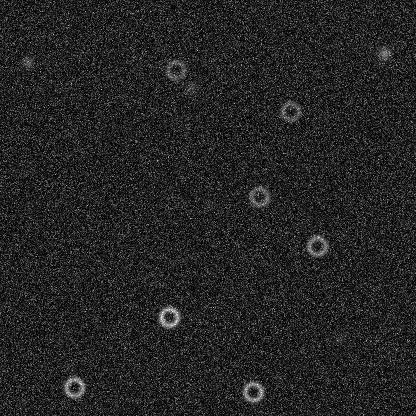Ring: (305, 233, 329, 257), (62, 375, 86, 399), (157, 304, 181, 328), (247, 184, 271, 208), (163, 57, 187, 81), (278, 99, 302, 123), (241, 379, 265, 403)
Spot: (376, 45, 392, 61), (20, 54, 36, 70), (200, 195, 216, 211), (333, 331, 349, 347), (183, 79, 199, 95)
